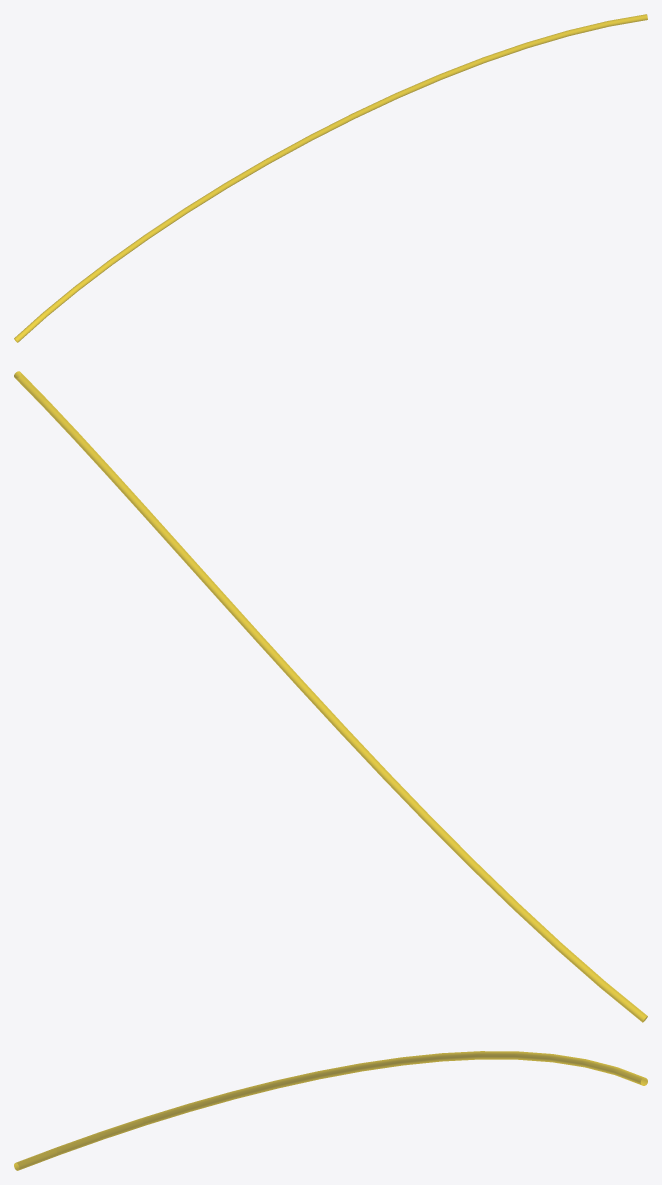
The model's file is Event_84804159_track_98.fbx.
The picture shows the model from 3 angles, top to bottom: view 1: azimuth 30°, elevation 25°; view 2: azimuth 150°, elevation 25°; view 3: azimuth 330°, elevation 25°; orthographic projection. The views are drawn at different scales.
Parts seen in each view (by area): view 1: Model; view 2: Model; view 3: Model.
Boxes of the visible parts, x1,y1,x2,y2 form: Model: (14, 14, 647, 342); Model: (14, 371, 647, 1022); Model: (14, 1051, 647, 1170).
Size of the model in its own units: 4.19 by 1.96 by 1.28.
